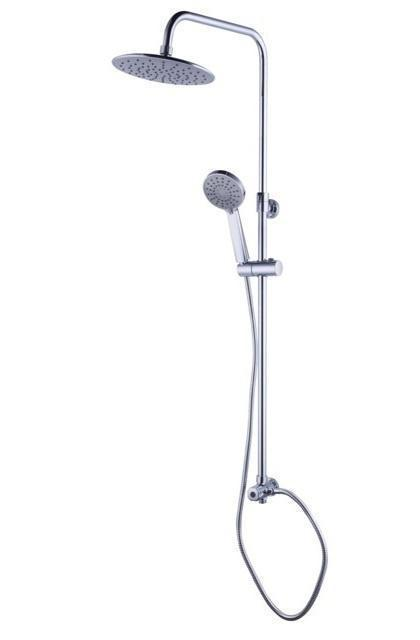Ducha: (108, 5, 350, 627)
